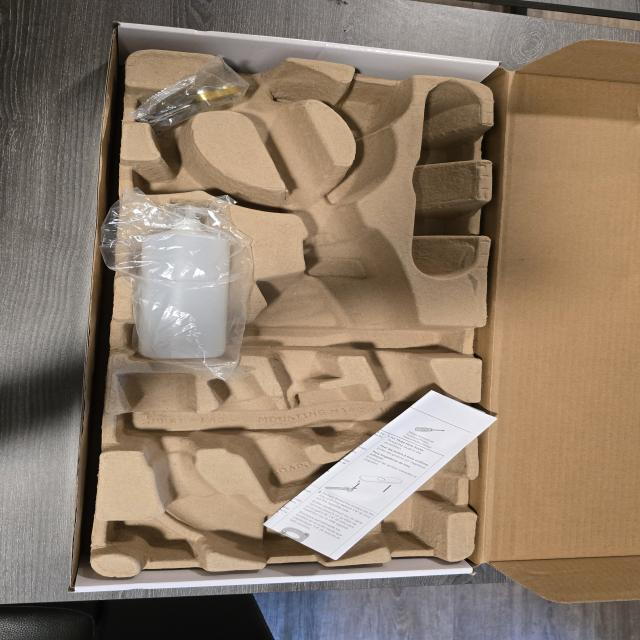1m: (119, 56, 457, 556)
2m: (207, 374, 393, 501)
3: (138, 204, 227, 358)
4m: (409, 80, 482, 280)
5m: (342, 89, 402, 138)
6: (123, 51, 255, 129)
7m: (132, 143, 249, 203)
8: (260, 390, 499, 561)
